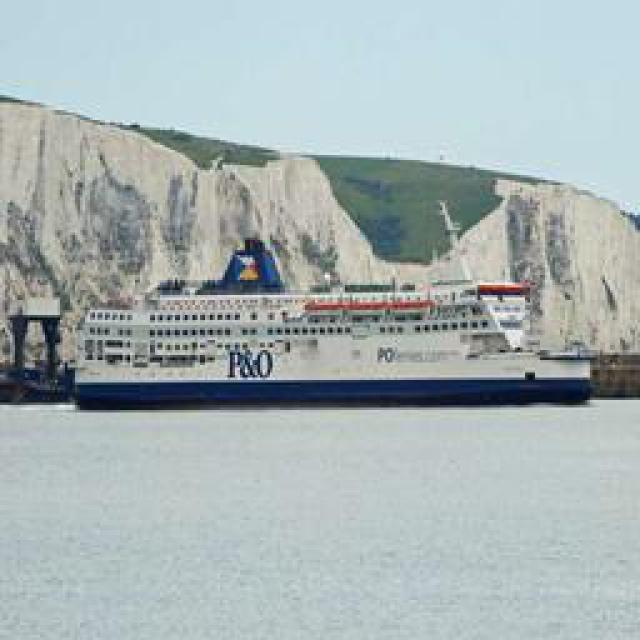Ship: (68, 287, 586, 405)
